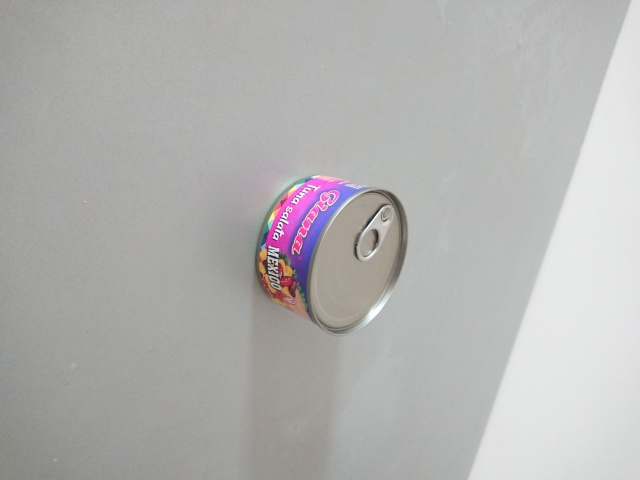Giana Tuna Salad Mexico 185g: (249, 171, 411, 340)
